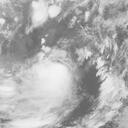cyclone: (29, 59, 72, 104)
